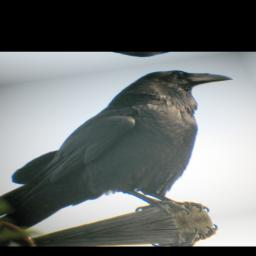Crow: (0, 60, 256, 240)
